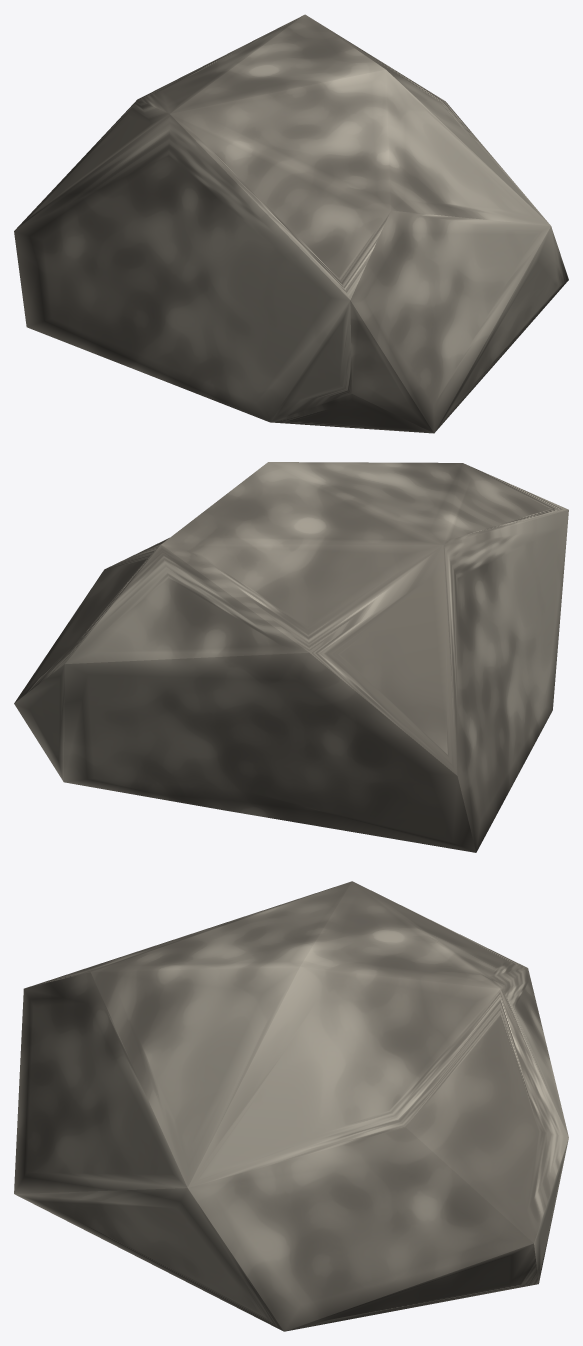
Rendered from boulder_lp_mossy1.gltf.
The picture shows the model from 3 angles, top to bottom: view 1: azimuth 30°, elevation 25°; view 2: azimuth 150°, elevation 25°; view 3: azimuth 270°, elevation 25°; orthographic projection. The views are drawn at different scales.
Parts seen in each view (by area): view 1: boulder_lp_mossy1_stone_LOD0; view 2: boulder_lp_mossy1_stone_LOD0; view 3: boulder_lp_mossy1_stone_LOD0.
Boxes of the visible parts, x1=… form: boulder_lp_mossy1_stone_LOD0: x1=14, y1=14, x2=568, y2=433; boulder_lp_mossy1_stone_LOD0: x1=14, y1=462, x2=568, y2=852; boulder_lp_mossy1_stone_LOD0: x1=14, y1=881, x2=568, y2=1331.
Size of what is drawn, in the model's own units: 1.5 by 0.7832 by 1.45.
Materials: 1 (1 with a texture image).
